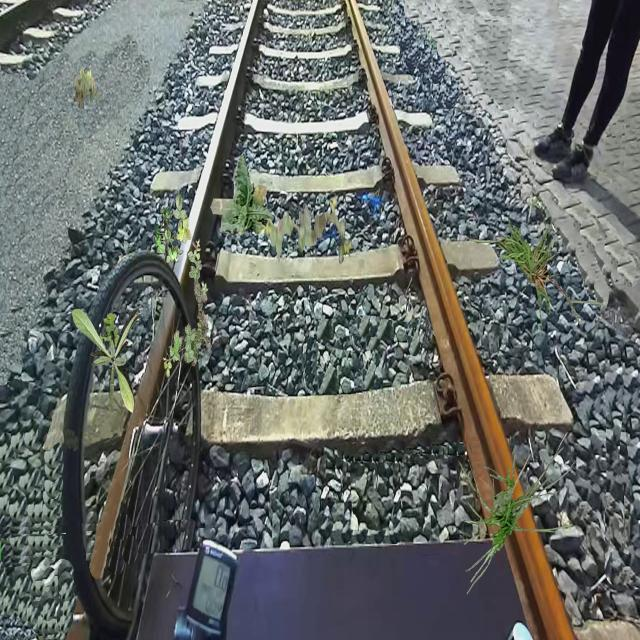Plant: (456, 431, 574, 594), (461, 216, 604, 336), (72, 307, 144, 415), (163, 239, 212, 377), (265, 196, 352, 264), (210, 153, 274, 236), (154, 193, 192, 266), (74, 66, 100, 108), (98, 312, 122, 353)
